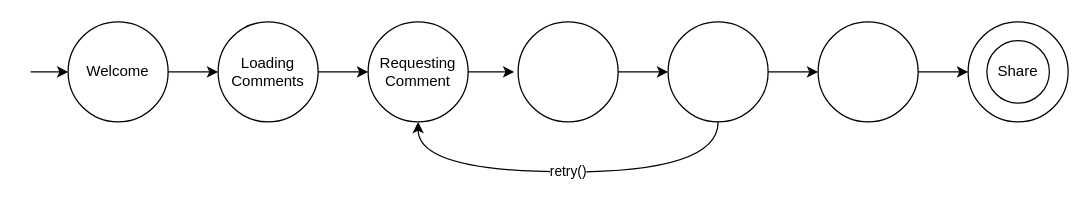
The diagram is 1090 pixels wide and 201 high, and some of its shapes have lost their labels. Each missing label, with the box of its shape:
Choosing Comment: (517, 21, 618, 122)
Finish: (667, 21, 768, 122)
Verification URL Waiting: (817, 21, 918, 122)
